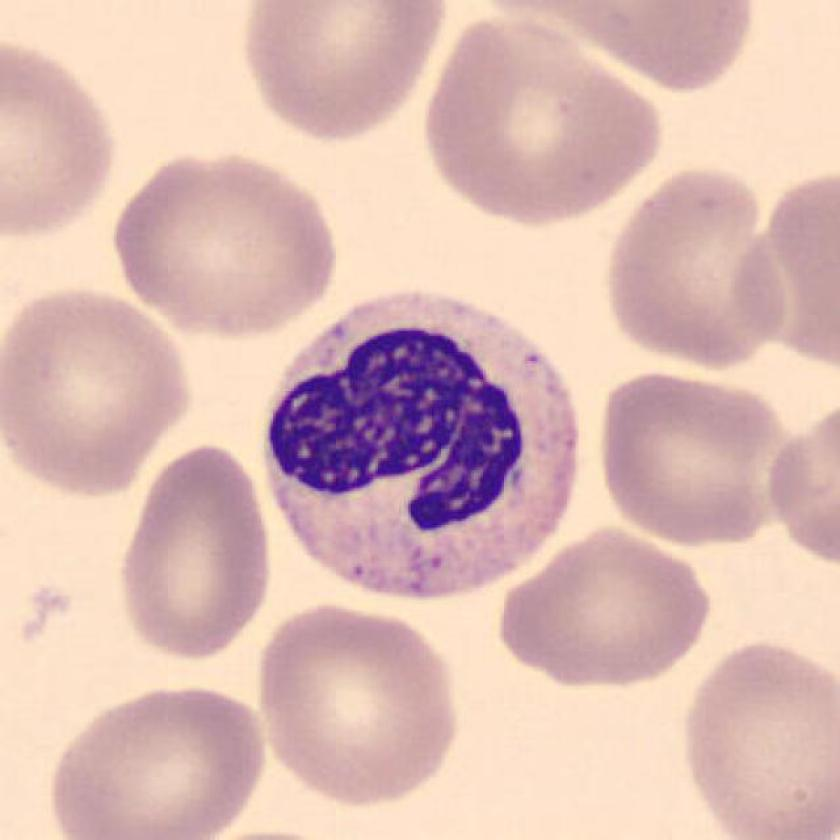neutrophil: (262, 294, 577, 593)
